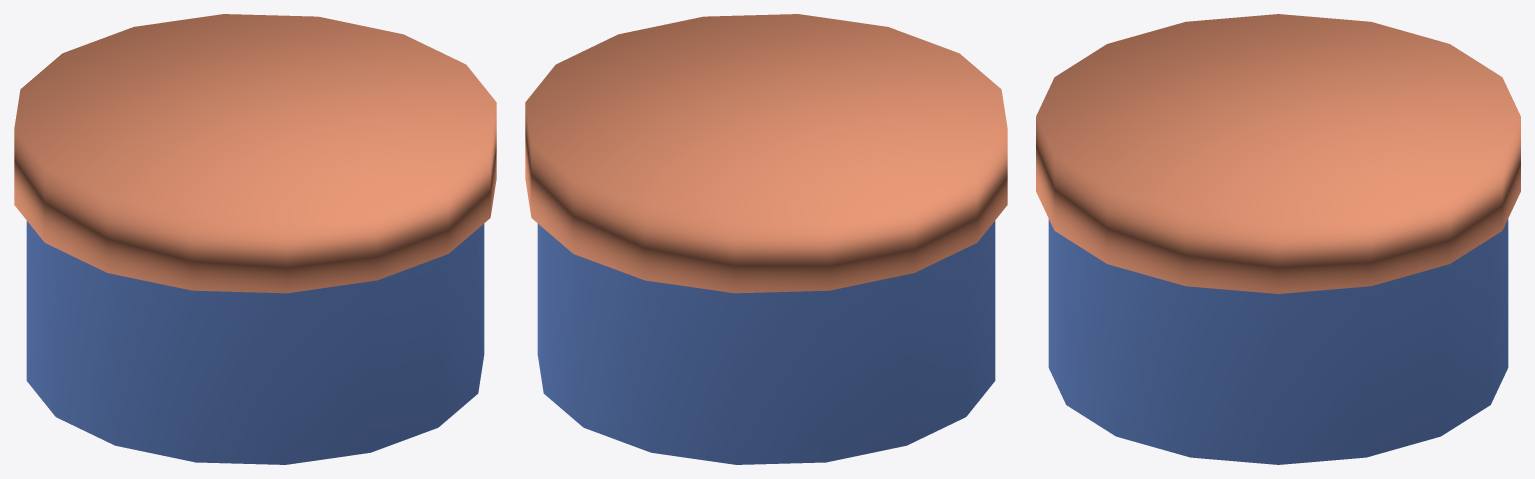
The model's file is Cocina Tarro chico.fbx.
3 renders of one model, left to right at view 1: azimuth 30°, elevation 25°; view 2: azimuth 150°, elevation 25°; view 3: azimuth 270°, elevation 25°, orthographic.
Parts seen in each view (by area): view 1: Cocina Tarro.003; view 2: Cocina Tarro.003; view 3: Cocina Tarro.003.
Part boxes in pixels (x1,y1,x2,y2): Cocina Tarro.003: (14, 14, 496, 464); Cocina Tarro.003: (525, 14, 1007, 464); Cocina Tarro.003: (1036, 14, 1520, 464).
Bounding box in the file's own units: 13.84 × 7.92 × 13.84.
